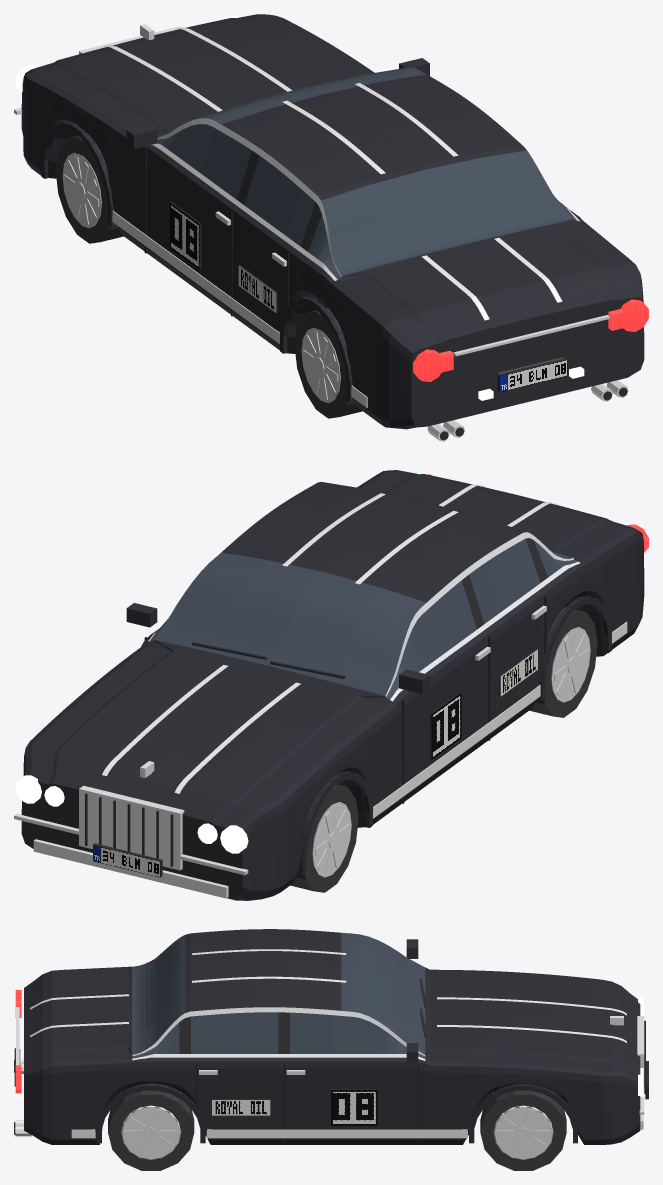
The model's file is bellmont.glb.
3 renders of one model, top to bottom at view 1: azimuth 30°, elevation 25°; view 2: azimuth 150°, elevation 25°; view 3: azimuth 270°, elevation 25°, orthographic. The views are drawn at different scales.
Parts seen in each view (by area): view 1: body.003, livery.003, wheel_FL.003, wheel_RL.003; view 2: body.003, livery.003, wheel_RL.003, wheel_FL.003; view 3: body.003, livery.003, wheel_RR.003, wheel_FR.003.
Boxes of the visible parts, left/top/right/bottom form: body.003: left=14, top=14, right=648, bottom=441; livery.003: left=103, top=27, right=562, bottom=407; wheel_FL.003: left=55, top=133, right=123, bottom=243; wheel_RL.003: left=294, top=307, right=362, bottom=418; body.003: left=14, top=470, right=648, bottom=900; livery.003: left=102, top=484, right=627, bottom=818; wheel_RL.003: left=529, top=607, right=597, bottom=717; wheel_FL.003: left=290, top=782, right=358, bottom=892; body.003: left=14, top=929, right=648, bottom=1144; livery.003: left=30, top=949, right=626, bottom=1138; wheel_RR.003: left=108, top=1083, right=194, bottom=1170; wheel_FR.003: left=480, top=1085, right=566, bottom=1170.
Size of the model in its own units: 2.28 by 1.51 by 5.44.
14 materials, 5 textured.
